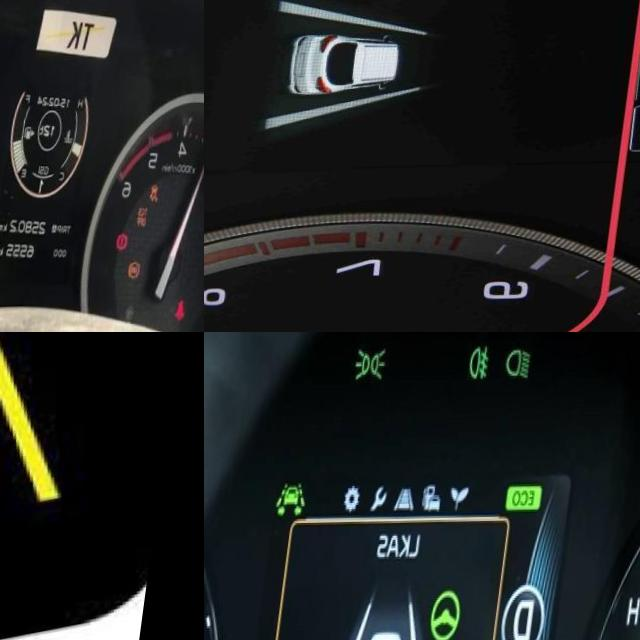Seat Belt: (187, 302, 200, 323)
